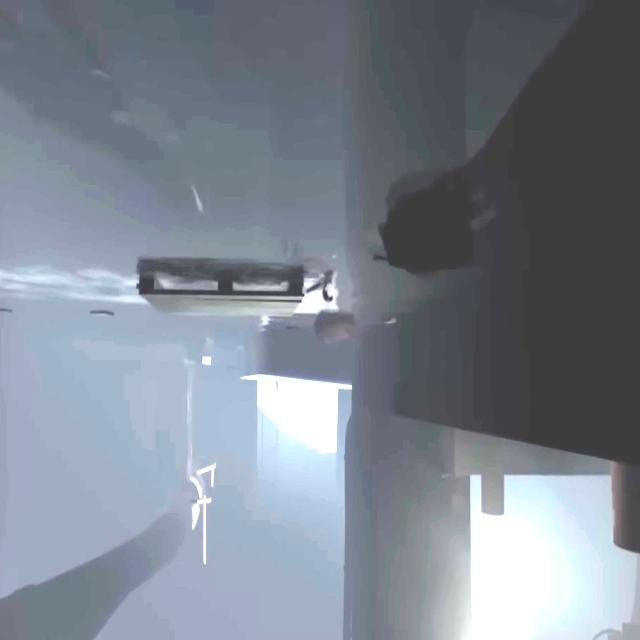boy: (303, 270, 334, 303)
